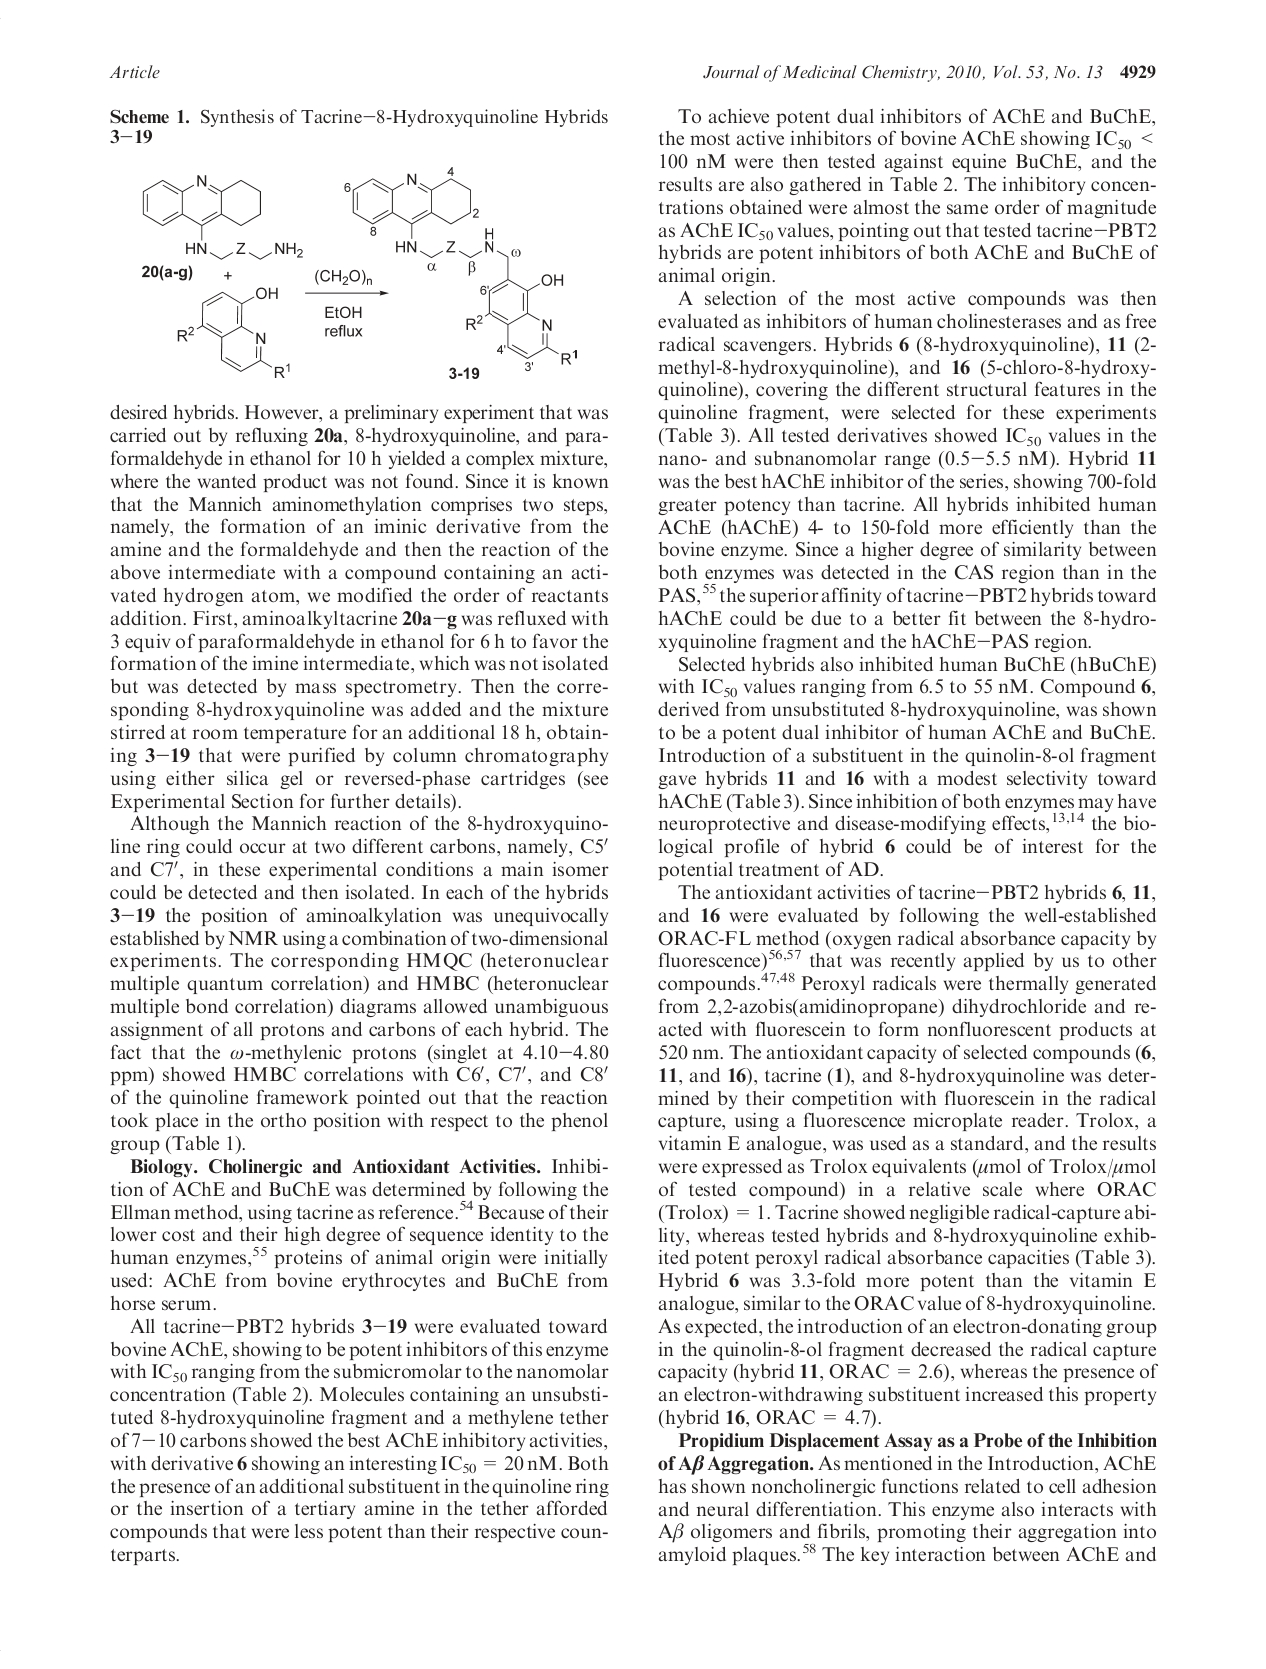exist_molecular: (343, 164, 580, 374), (141, 168, 306, 265), (173, 289, 293, 380)
